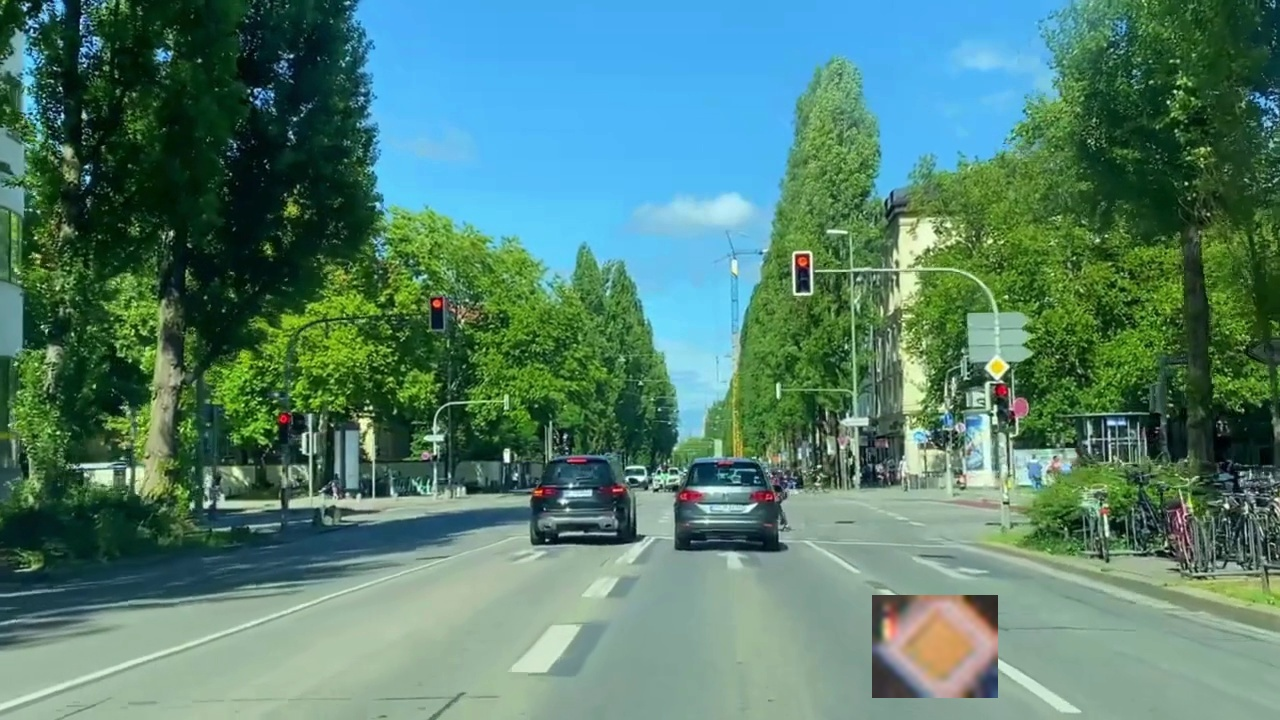Priority road: (872, 595, 998, 698)
